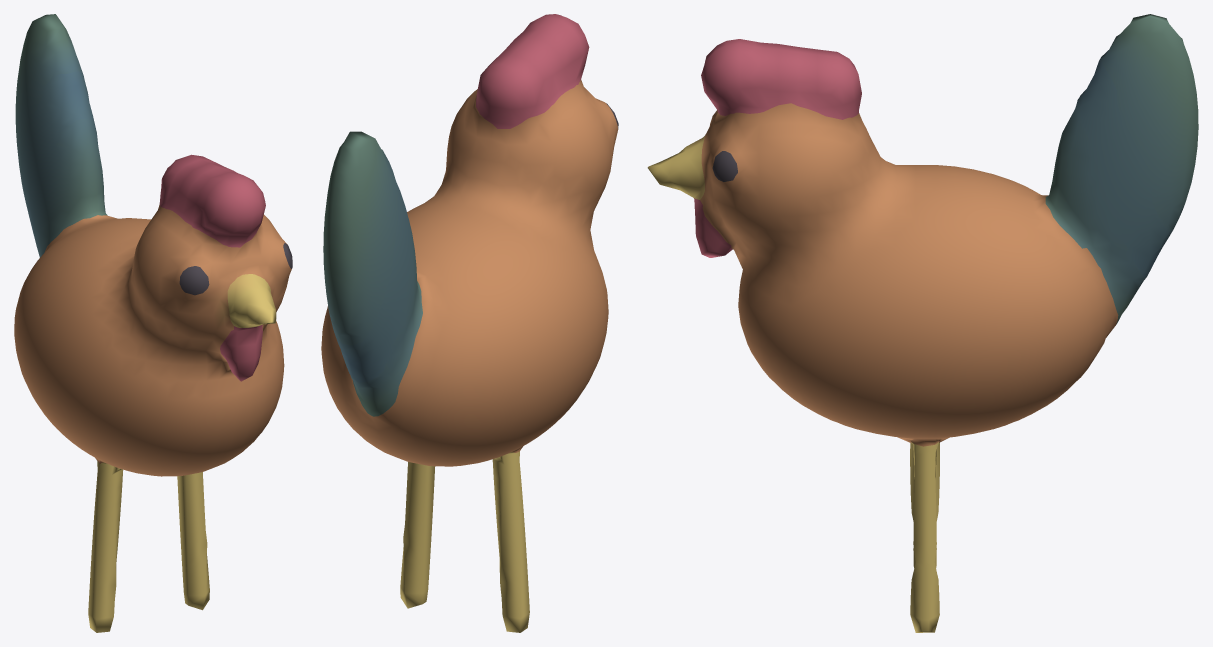
File: rooster.glb
3 renders of one model, left to right at view 1: azimuth 30°, elevation 25°; view 2: azimuth 150°, elevation 25°; view 3: azimuth 270°, elevation 25°, orthographic. The views are drawn at different scales.
Parts seen in each view (by area): view 1: rooster; view 2: rooster; view 3: rooster.
Boxes of the visible parts, box(x1,y1,x2,y2) form: rooster: box(14, 14, 292, 632); rooster: box(321, 14, 618, 632); rooster: box(647, 14, 1198, 632).
Size of the model in its own units: 21.97 by 52.45 by 44.21.
